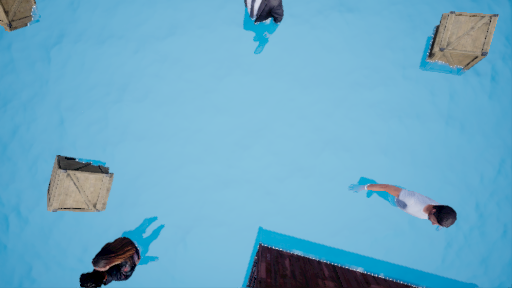person: (67, 216, 173, 288), (357, 173, 456, 235)
